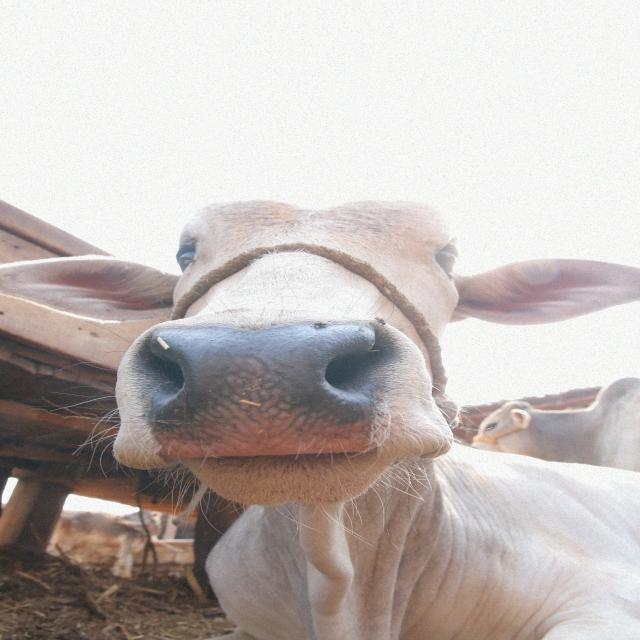muzzles: (125, 313, 407, 465)
